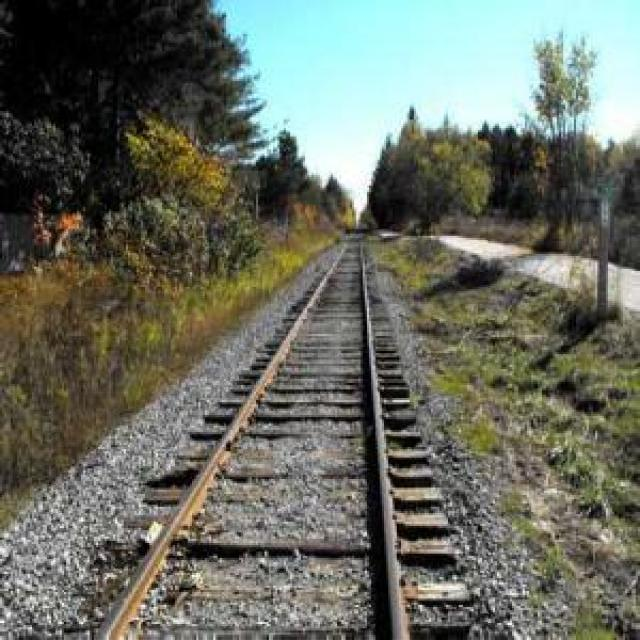rail: (55, 231, 489, 640)
